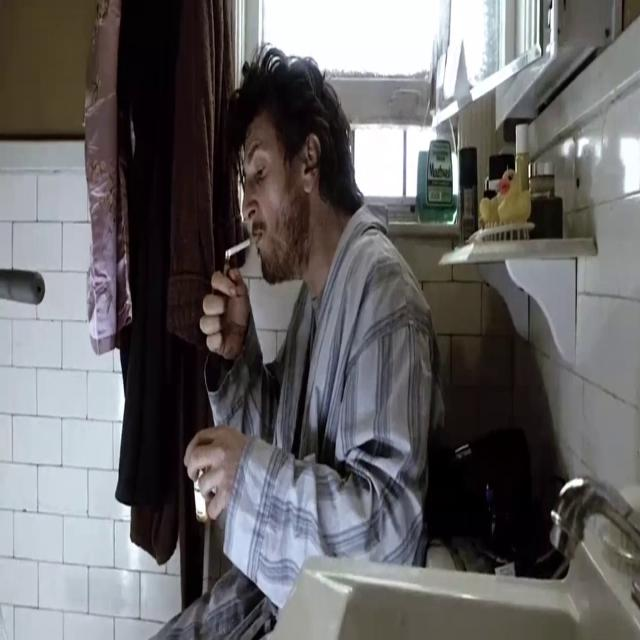Smooking: (216, 233, 258, 257)
